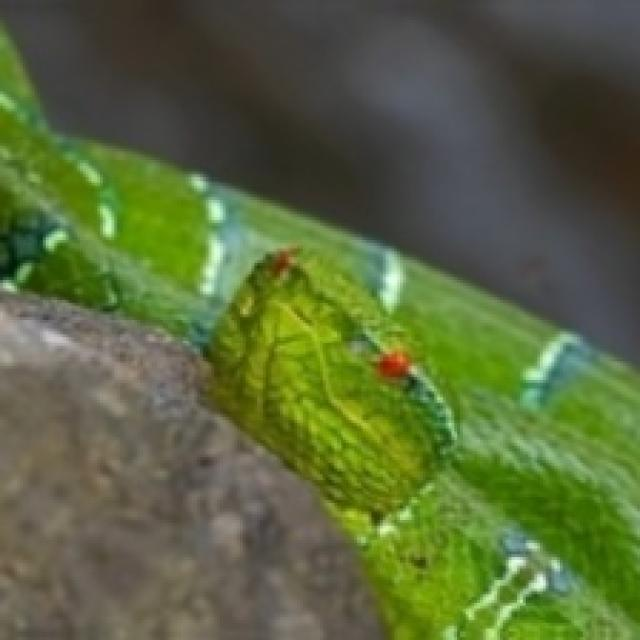north ph temple pitviper: (0, 31, 637, 637)
